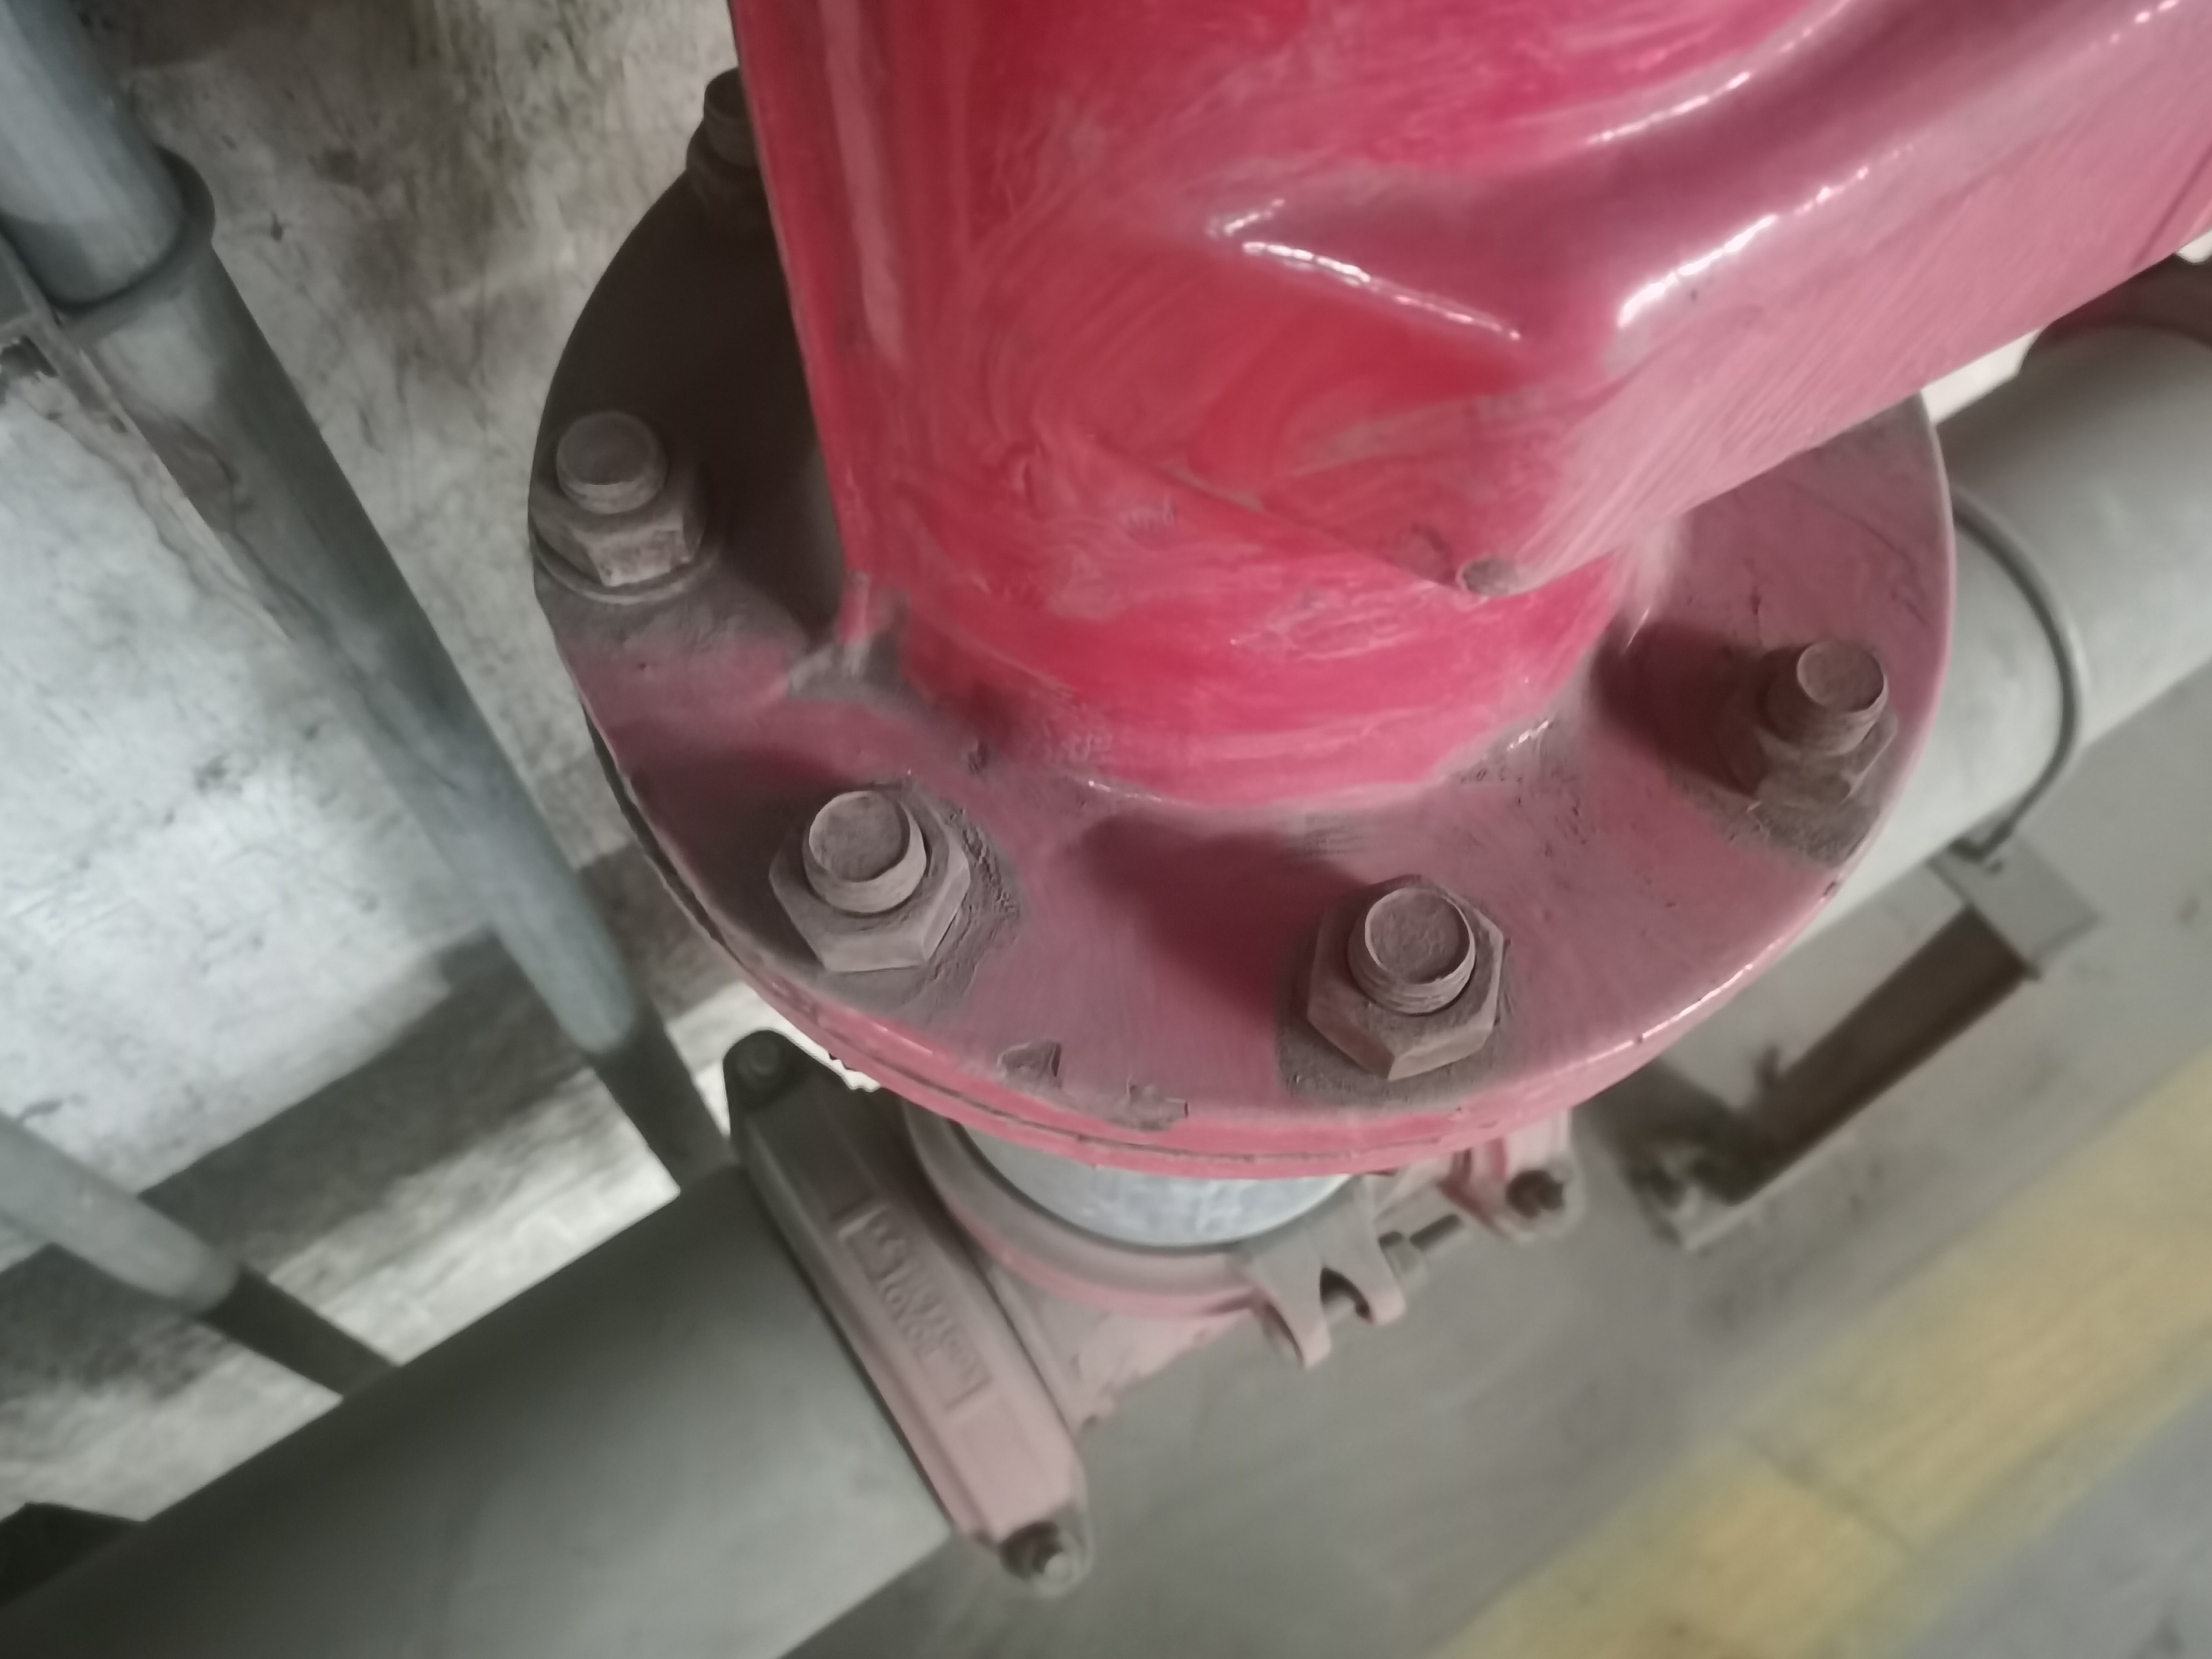bolt_b: (1289, 866, 1517, 1089), (758, 769, 979, 979), (516, 403, 723, 594), (1707, 633, 1905, 817)
vague: (1012, 1518, 1092, 1598), (1519, 1161, 1585, 1230), (730, 1032, 792, 1093)
